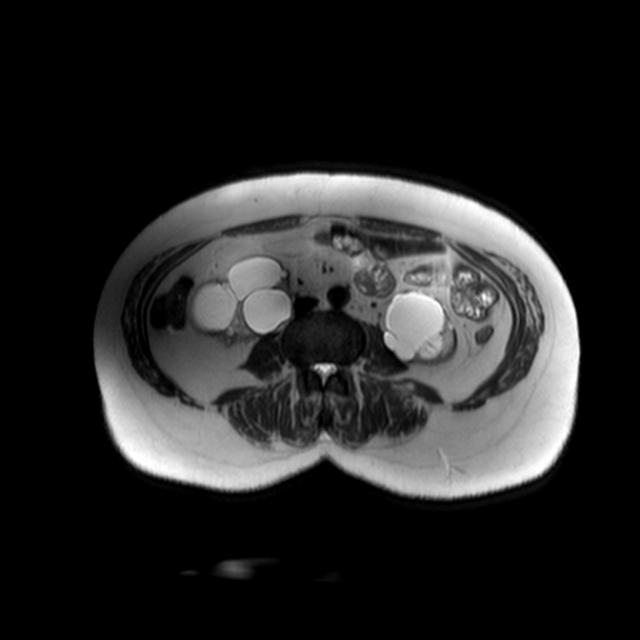sag: (187, 256, 292, 347)
sol: (379, 285, 458, 366)
